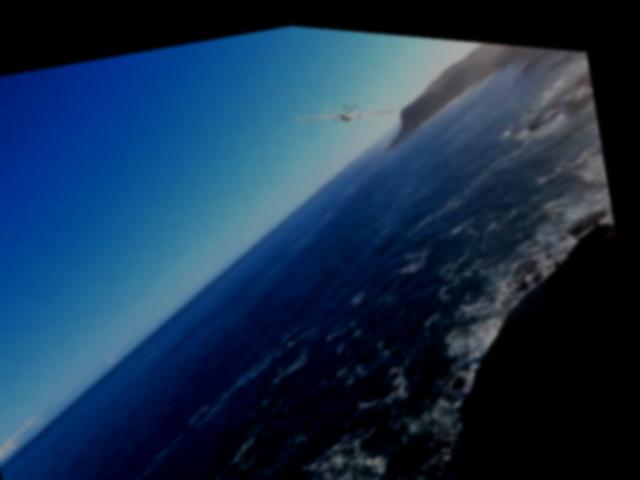uav: (296, 80, 405, 136)
